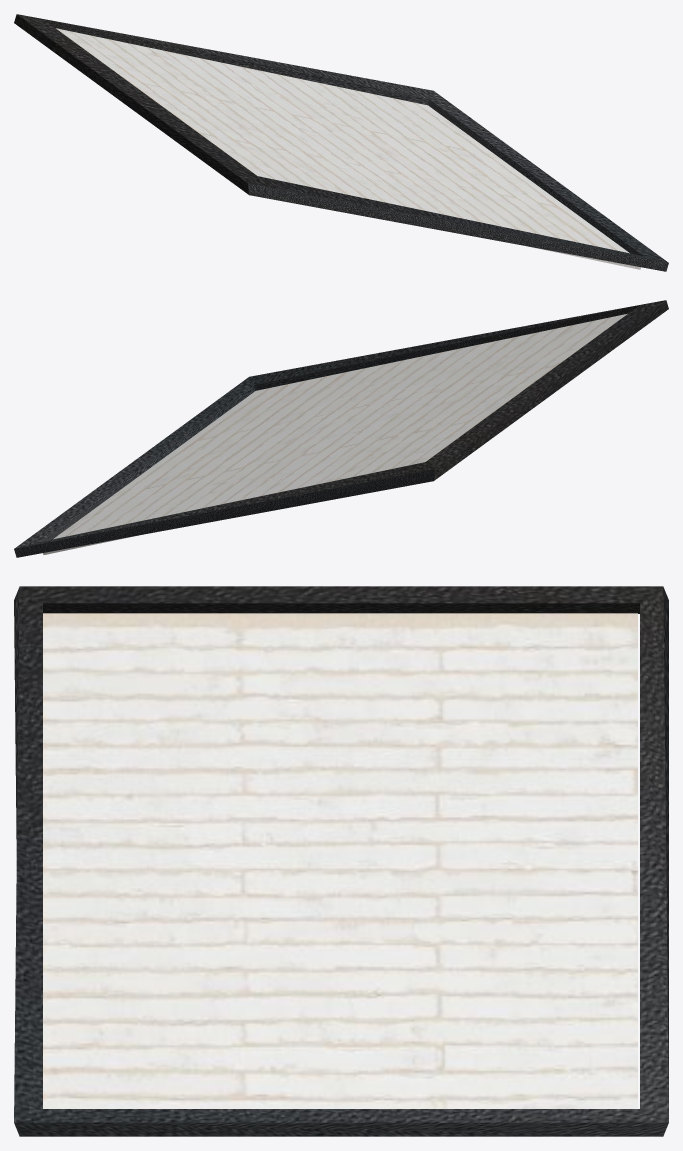
The model's file is PaintingPickup.fbx.
3 renders of one model, top to bottom at view 1: azimuth 30°, elevation 25°; view 2: azimuth 150°, elevation 25°; view 3: azimuth 270°, elevation 25°, orthographic. The views are drawn at different scales.
Parts seen in each view (by area): view 1: Cube.001, Cube; view 2: Cube.001, Cube; view 3: Cube.001, Cube.
Boxes of the visible parts, x1,y1,x2,y2 form: Cube.001: [56, 28, 640, 269]; Cube: [14, 14, 668, 271]; Cube.001: [43, 313, 627, 554]; Cube: [14, 300, 668, 557]; Cube.001: [43, 613, 637, 1108]; Cube: [14, 586, 668, 1136].
Size of the model in its own units: 313 by 136 by 304.
2 materials, 2 textured.
